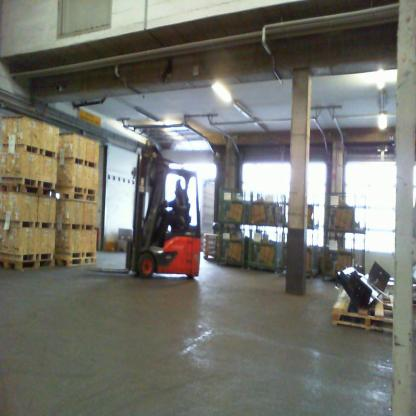forklift: (118, 145, 211, 286)
pallet: (326, 280, 403, 334), (0, 182, 56, 200), (0, 256, 55, 271), (55, 190, 96, 203), (56, 256, 99, 268), (202, 230, 220, 239), (202, 237, 221, 245), (203, 253, 218, 262), (204, 247, 220, 253), (202, 243, 220, 247)
stillage: (320, 184, 368, 236), (325, 235, 367, 285), (282, 231, 323, 274), (247, 186, 286, 231), (247, 227, 282, 272), (216, 186, 249, 225), (217, 227, 246, 268), (287, 190, 319, 227)
